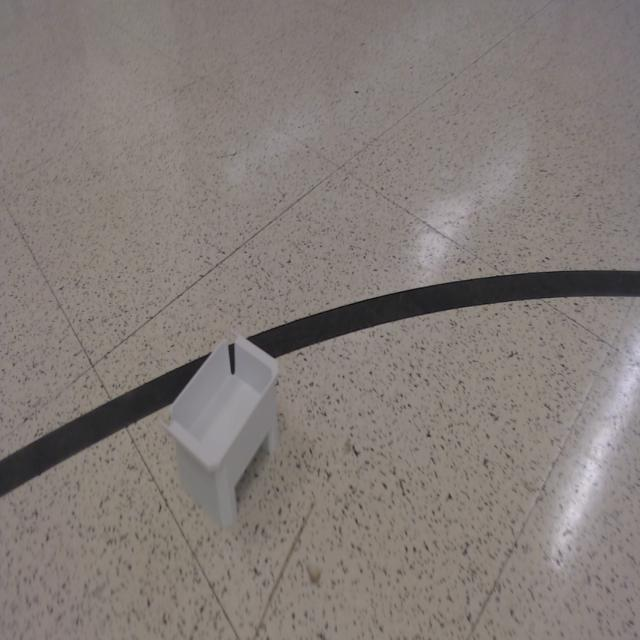wbox: (160, 326, 280, 529)
